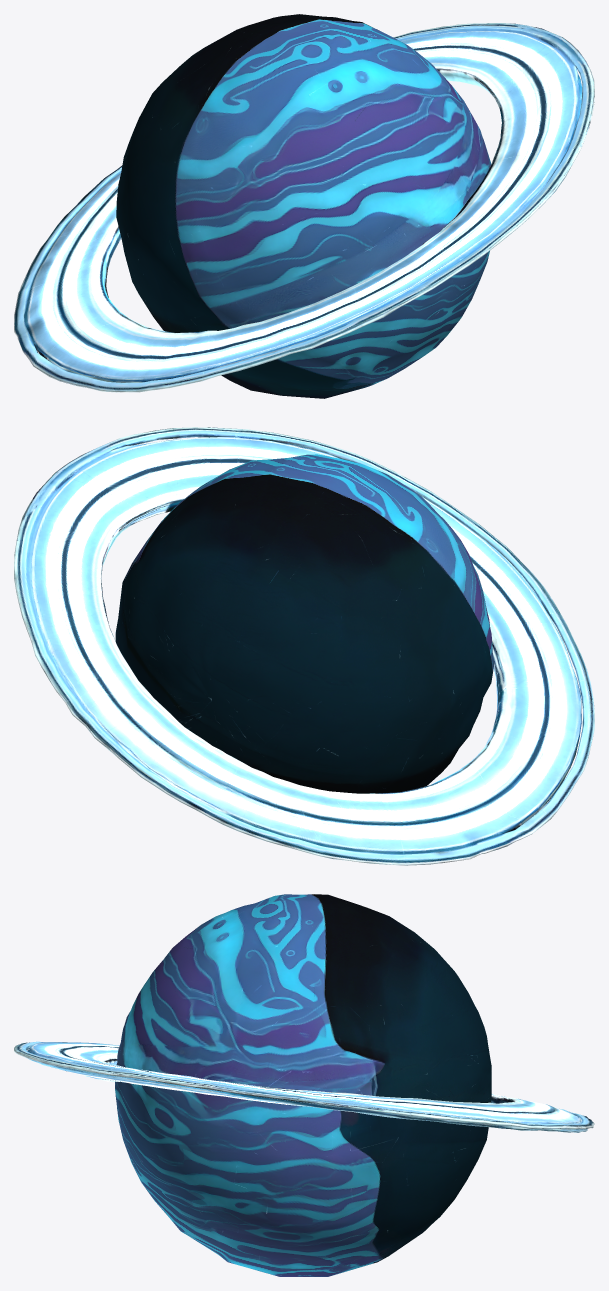
The model's file is Meshy_AI_Blue_Ringed_Planet_0519154204_texture.glb.
3 views of the same model, one above another, from view 1: azimuth 30°, elevation 25°; view 2: azimuth 150°, elevation 25°; view 3: azimuth 270°, elevation 25° (orthographic).
Bounding box in the file's own units: 1.91 × 1.25 × 1.89.
Materials: 1 (1 with a texture image).
